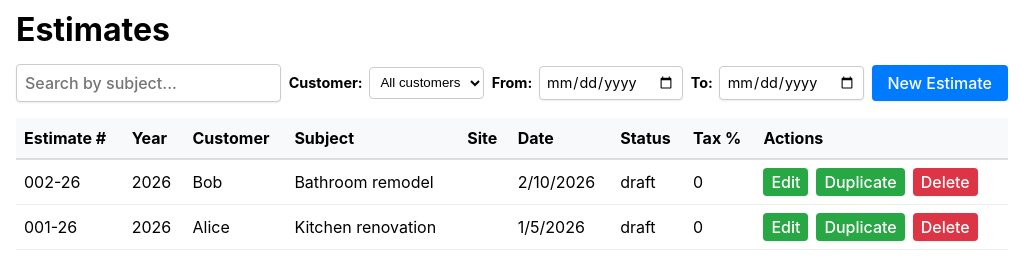
Test: EstimatesListPage › searches by subject, case-insensitively
expect the text "Kitchen renovation" is shown: met, box [286,204,459,249]
Type "BATHROOM" into the field with placeholder "Search by subject..." at (148, 83), box [16,64,281,102]
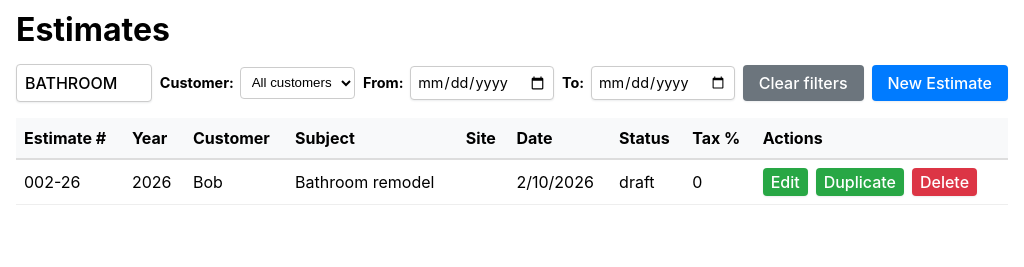
expect the text "Bathroom remodel" is shown: met, box [287,159,458,204]
expect the text "Kitchen renovation" is gone: met
